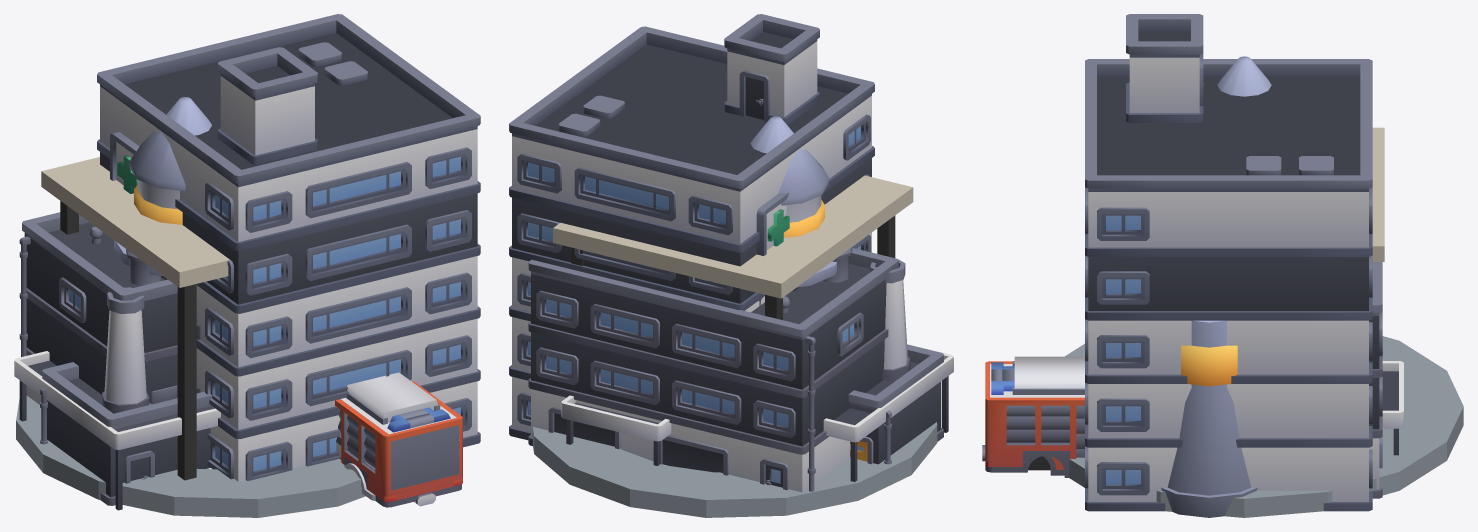
Rendered from stations.glb.
3 renders of one model, left to right at view 1: azimuth 30°, elevation 25°; view 2: azimuth 150°, elevation 25°; view 3: azimuth 270°, elevation 25°, orthographic. The views are drawn at different scales.
Parts seen in each view (by area): view 1: municipal_hq, fire_services, pollution_control_board, online_portal, milestone, utility_provider, health_department; view 2: municipal_hq, fire_services, milestone, online_portal, pollution_control_board, utility_provider; view 3: municipal_hq, pollution_control_board, milestone, fire_services, health_department, online_portal, utility_provider.
Boxes of the visible parts, left/top/right/bottom form: municipal_hq: left=14, top=14, right=480, bottom=510; fire_services: left=19, top=212, right=462, bottom=507; pollution_control_board: left=40, top=287, right=214, bottom=505; online_portal: left=41, top=157, right=229, bottom=480; milestone: left=16, top=395, right=365, bottom=517; utility_provider: left=114, top=97, right=211, bottom=279; health_department: left=341, top=372, right=456, bottom=503; municipal_hq: left=509, top=14, right=953, bottom=481; fire_services: left=528, top=247, right=898, bottom=492; milestone: left=532, top=422, right=937, bottom=517; online_portal: left=553, top=175, right=913, bottom=465; pollution_control_board: left=848, top=259, right=943, bottom=464; utility_provider: left=750, top=116, right=836, bottom=291; municipal_hq: left=1085, top=14, right=1403, bottom=511; pollution_control_board: left=1161, top=320, right=1257, bottom=517; milestone: left=1065, top=336, right=1463, bottom=517; fire_services: left=982, top=262, right=1382, bottom=498; health_department: left=990, top=356, right=1084, bottom=475; online_portal: left=1372, top=127, right=1384, bottom=261; utility_provider: left=1217, top=56, right=1271, bottom=96.
Size of the model in its own units: 2.53 by 2.59 by 2.75.
1 material, 1 textured.
